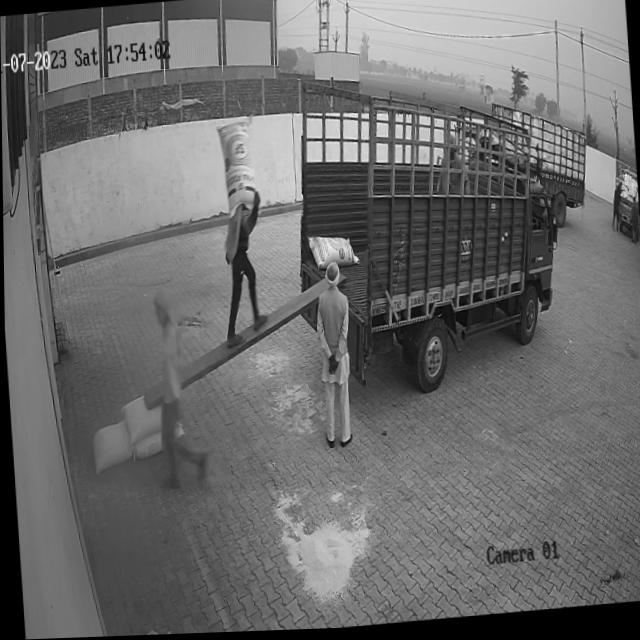sack: (216, 120, 257, 221), (89, 420, 131, 473), (119, 396, 163, 443), (306, 234, 359, 273), (133, 432, 164, 462)
